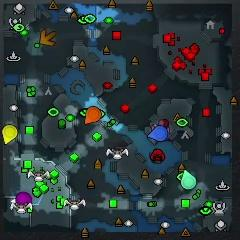p1: (148, 125, 167, 141)
p2: (181, 170, 195, 189)
p3: (16, 192, 32, 207)
p4: (2, 125, 18, 146)
p5: (85, 106, 99, 124)
x5: (40, 29, 55, 46)
